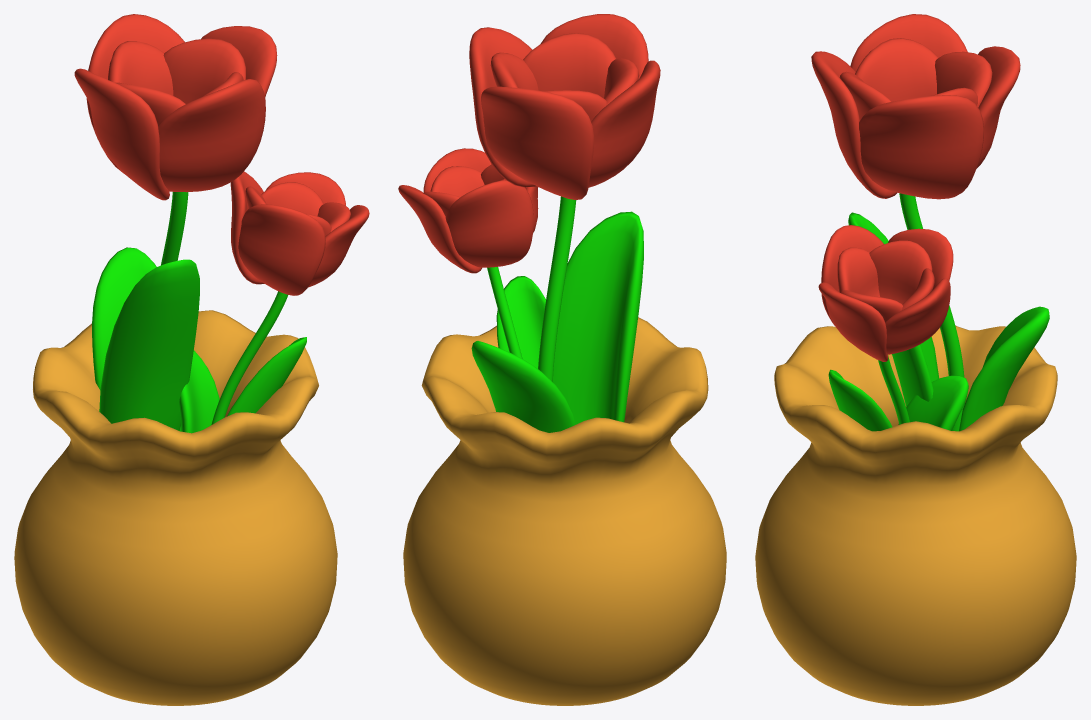
Rendered from flower.glb.
3 renders of one model, left to right at view 1: azimuth 30°, elevation 25°; view 2: azimuth 150°, elevation 25°; view 3: azimuth 270°, elevation 25°, orthographic.
Visible parts, largest first — view 1: 円柱, 平面, 平面.005, 平面.001, 平面.002, 平面.004, 平面.003, NURBSパス.001, NURBSパス; view 2: 円柱, 平面, 平面.001, 平面.005, 平面.002, NURBSパス, 平面.004, NURBSパス.001; view 3: 円柱, 平面, 平面.005, 平面.002, 平面.001, 平面.003, 平面.004, NURBSパス, NURBSパス.001.
Boxes of the visible parts, <box> form: 円柱: <box>14,310,337,705</box>; 平面: <box>74,14,277,200</box>; 平面.005: <box>230,171,369,295</box>; 平面.001: <box>99,259,199,430</box>; 平面.002: <box>92,247,181,431</box>; 平面.004: <box>227,337,306,416</box>; 平面.003: <box>179,350,219,433</box>; NURBSパス.001: <box>211,291,287,424</box>; NURBSパス: <box>161,192,188,265</box>; 円柱: <box>403,317,726,705</box>; 平面: <box>469,14,660,199</box>; 平面.001: <box>552,211,643,424</box>; 平面.005: <box>398,148,538,273</box>; 平面.002: <box>471,341,575,432</box>; NURBSパス: <box>538,196,576,381</box>; 平面.004: <box>496,276,545,368</box>; NURBSパス.001: <box>487,267,522,358</box>; 円柱: <box>755,325,1076,705</box>; 平面: <box>811,14,1020,199</box>; 平面.005: <box>818,225,953,361</box>; 平面.002: <box>959,306,1049,431</box>; 平面.001: <box>848,212,939,406</box>; 平面.003: <box>898,375,968,430</box>; 平面.004: <box>828,369,892,431</box>; NURBSパス: <box>899,193,964,431</box>; NURBSパス.001: <box>878,355,909,424</box>.
Size of the model in its own units: 2.69 by 5.26 by 2.48.
